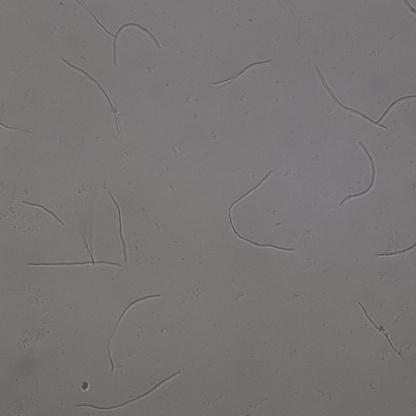Sensitive: (227, 170, 294, 252), (79, 1, 161, 67), (62, 58, 121, 136), (314, 67, 387, 128), (105, 294, 160, 373), (77, 372, 181, 412), (359, 303, 405, 360), (339, 140, 376, 205), (106, 187, 126, 262), (213, 60, 272, 85), (27, 260, 121, 272), (377, 95, 416, 122), (24, 201, 64, 225), (376, 242, 416, 259)
